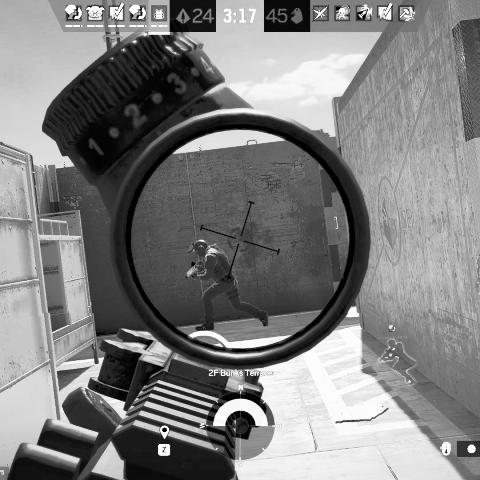Character: (184, 239, 270, 331)
Friend_label: (378, 324, 407, 341)
Head: (190, 240, 210, 256)
